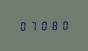eight: (48, 19, 57, 30)
seven: (28, 20, 37, 31)
zero: (18, 20, 27, 31), (58, 19, 67, 30), (38, 20, 47, 30)
